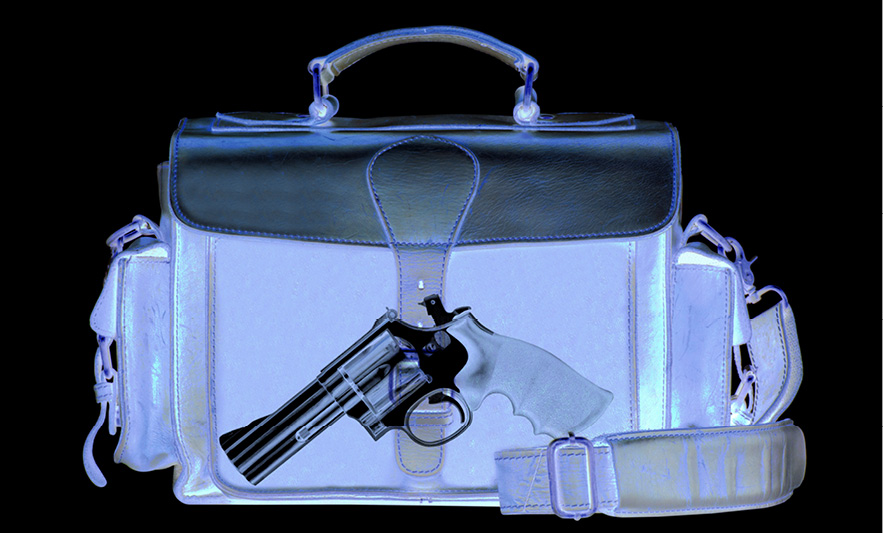gun: (215, 289, 623, 492)
